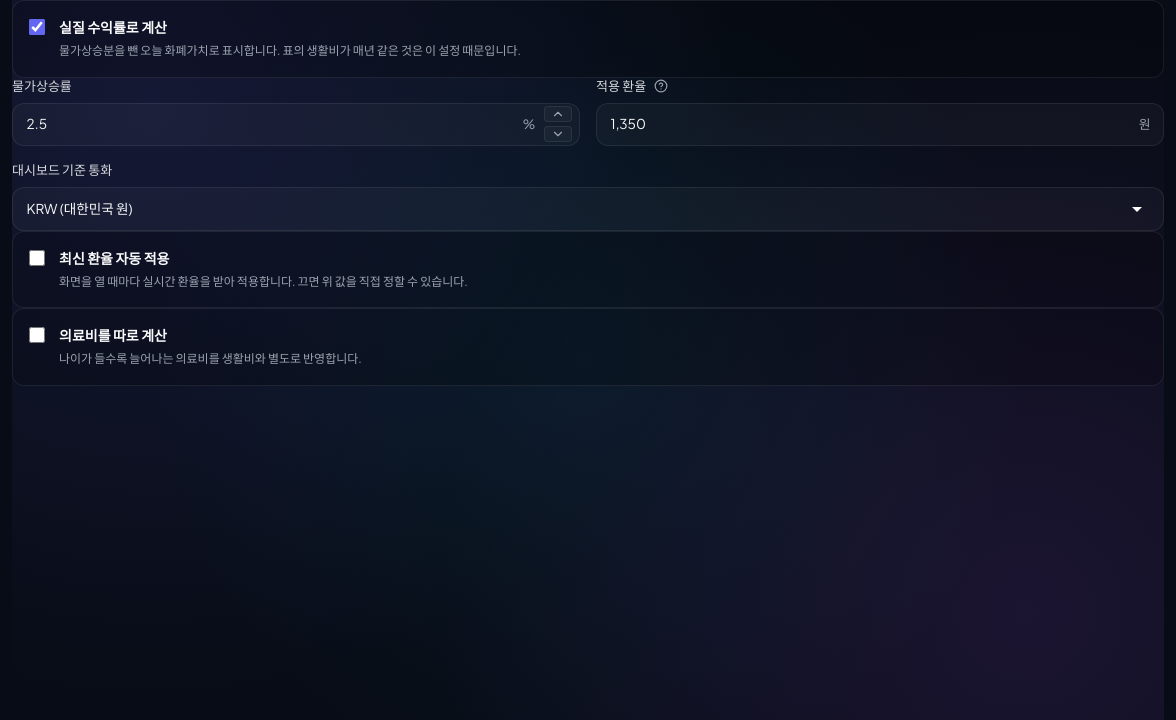
EconomicAssumptionSection 소수 입력 › 물가상승률을 지우면 화면만 비고 저장된 값은 유지된다
This screenshot has width=1176, height=720.
Clear the number field named "물가상승률" at (296, 124), box [12,103,580,146]
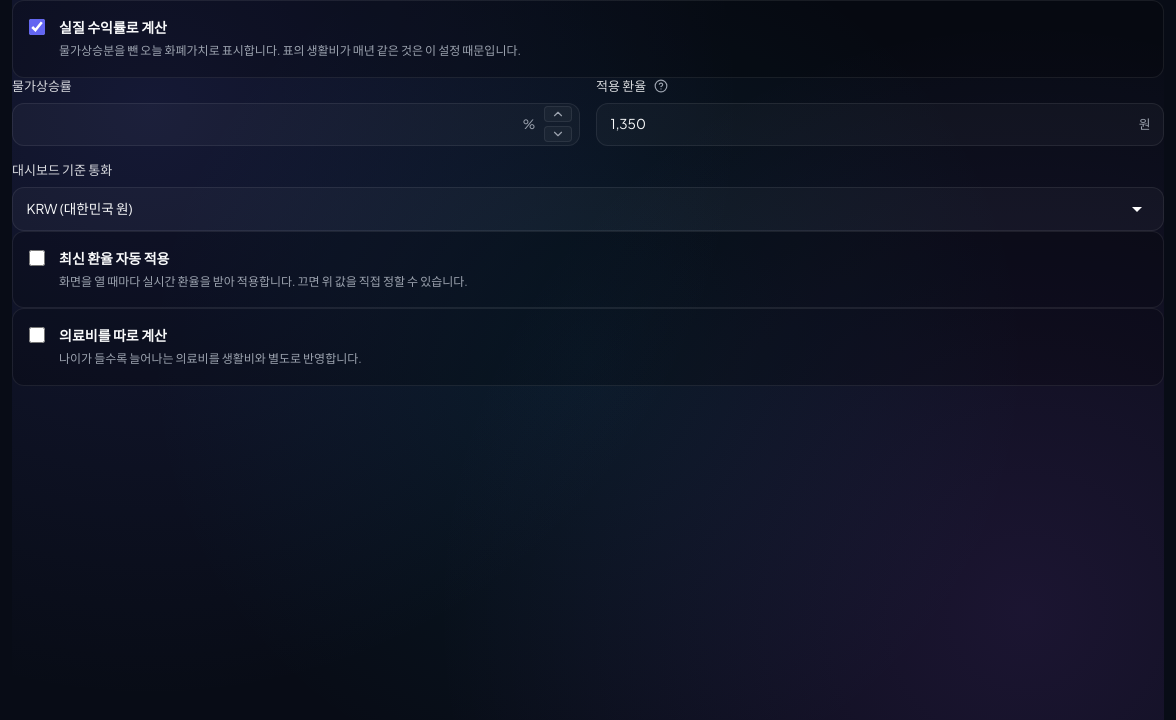
Leave the number field named "물가상승률", box [12,103,580,146]
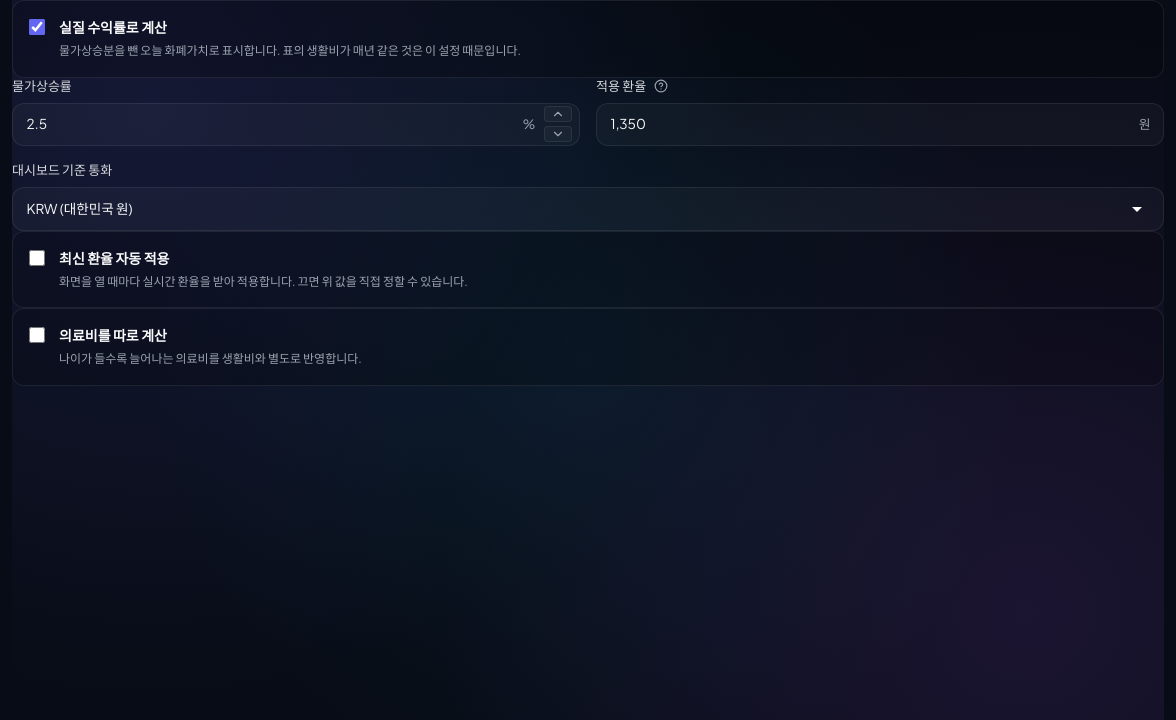
Result: the number field named "물가상승률" holds "2.5" at [12,103,580,146]
